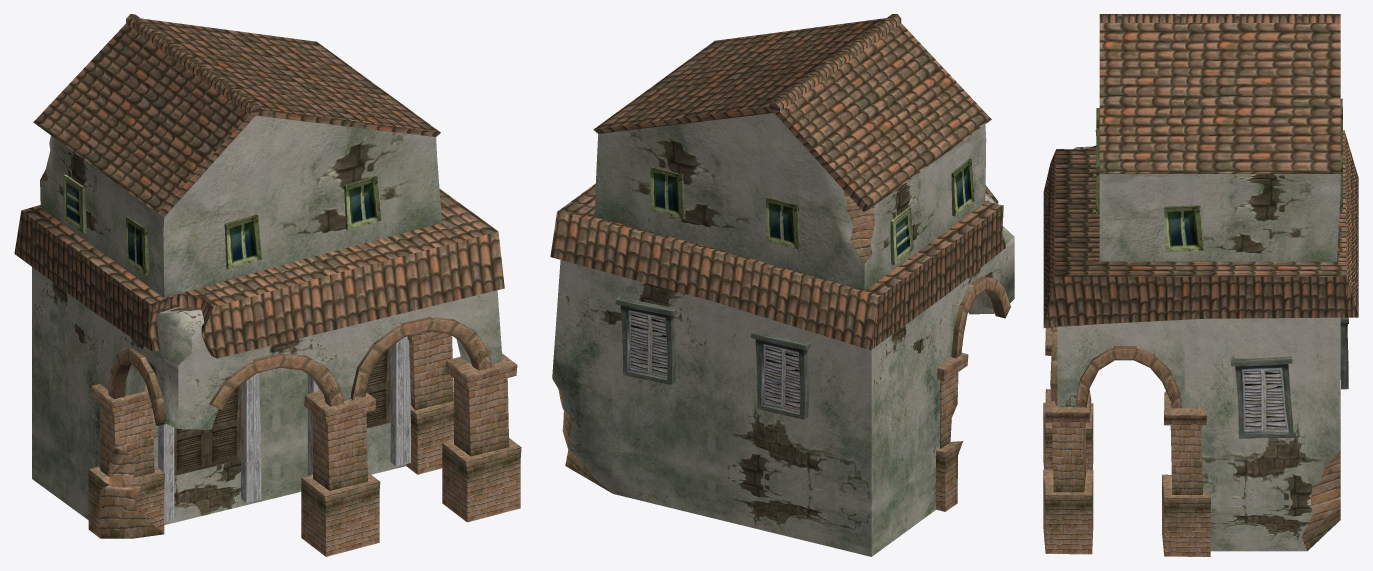
Rendered from pir_m_bld_spn_houseA_destroyed.fbx.
3 renders of one model, left to right at view 1: azimuth 30°, elevation 25°; view 2: azimuth 150°, elevation 25°; view 3: azimuth 270°, elevation 25°, orthographic. The views are drawn at different scales.
Parts seen in each view (by area): view 1: building_downstairs, roof_peaked, building_upstairs, roof_flat, BrickColumnMoss27, BrickColumnMoss30, BrickColumnMoss29, BrickColumnMoss28, door_frame_1, Arch3, door_frame_2, Arch6 (+8 smaller); view 2: building_downstairs, roof_peaked, building_upstairs, roof_flat, win_rect_s5_win_frame1, win_rect_s5_win_frame2, BrickColumnMoss29, Arch7, window58, window59, window57, window56; view 3: roof_peaked, building_downstairs, roof_flat, building_upstairs, BrickColumnMoss27, BrickColumnMoss28, win_rect_s5_win_frame, Arch8, window55, BrickColumnMoss30, win_rect_s5_win_frame1, Arch3.
Boxes of the visible parts, x1,y1,x2,y2 form: building_downstairs: (32,267,502,524); roof_peaked: (33,14,440,216); building_upstairs: (40,115,441,297); roof_flat: (14,189,504,358); BrickColumnMoss27: (442,353,521,522); BrickColumnMoss30: (301,391,380,556); BrickColumnMoss29: (88,384,164,538); BrickColumnMoss28: (406,331,453,474); door_frame_1: (158,373,261,522); Arch3: (350,316,491,399); door_frame_2: (307,336,410,475); Arch6: (209,353,344,410); building_downstairs: (552,194,1014,556); roof_peaked: (593,14,991,211); building_upstairs: (594,113,986,290); roof_flat: (550,184,1005,350); win_rect_s5_win_frame1: (615,296,676,384); win_rect_s5_win_frame2: (750,331,810,419); BrickColumnMoss29: (936,353,968,511); Arch7: (951,276,1010,358); window58: (650,166,685,218); window59: (766,197,800,249); window57: (890,207,913,264); window56: (951,158,974,216); roof_peaked: (1099,14,1340,173); building_downstairs: (1057,146,1340,551); roof_flat: (1043,130,1358,327); building_upstairs: (1099,174,1340,261); BrickColumnMoss27: (1043,389,1093,554); BrickColumnMoss28: (1162,391,1210,556); win_rect_s5_win_frame: (1230,356,1293,438); Arch8: (1075,346,1182,408); window55: (1164,205,1204,252); BrickColumnMoss30: (1043,327,1093,469); win_rect_s5_win_frame1: (1340,317,1348,389); Arch3: (1050,327,1057,405).
Bounding box in the file's own units: 3898 × 4638 × 3102.
2 materials, 2 textured.
